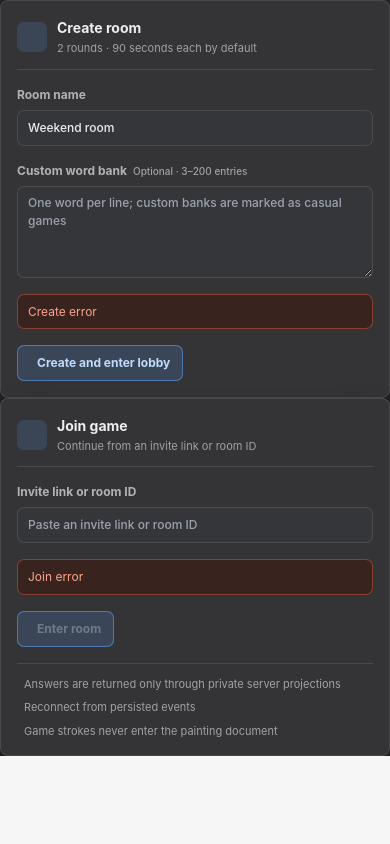
it: pictionary editor UI › inherits editor density and switches its local copy with the global locale
Expected: the field labelled "Invite link or room ID" is shown, [17,507,373,543]
Replace the text in the field with class "site-activity-control" showing "Room name" with "Friday sketch club" at (195, 128), box [17,110,373,146]
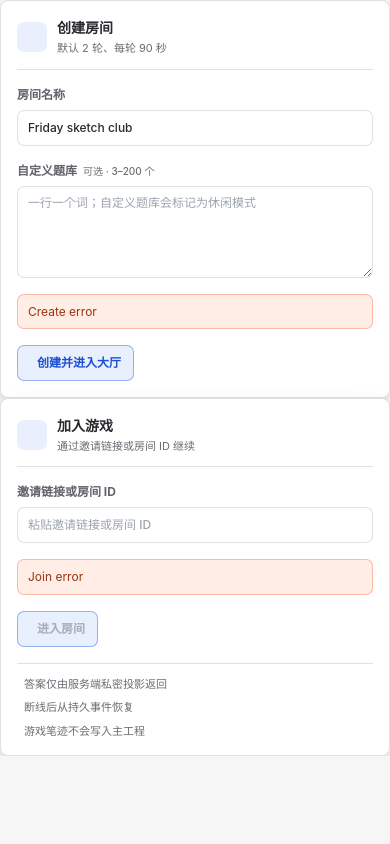
Result: the text "创建房间" is shown at [57,19,113,36]
Result: the text "加入游戏" is shown at [57,417,113,434]
